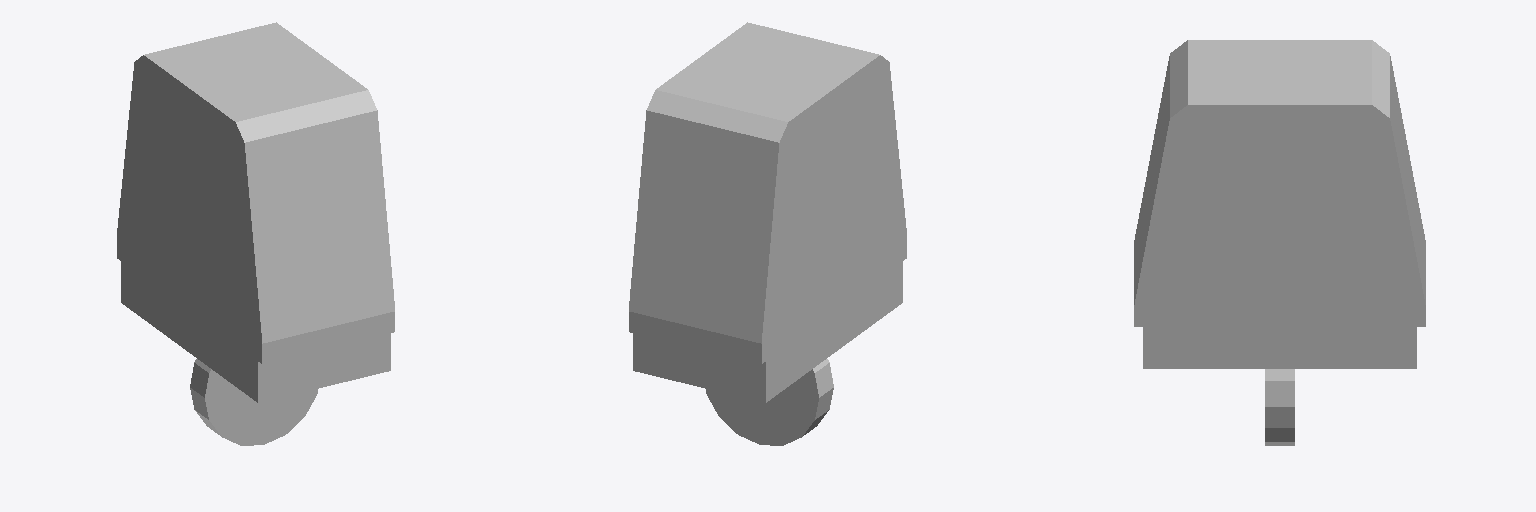
The model's file is Cuerpo.obj.
3 views of the same model, side by side, from view 1: azimuth 30°, elevation 25°; view 2: azimuth 150°, elevation 25°; view 3: azimuth 270°, elevation 25° (orthographic).
Parts seen in each view (by area): view 1: pasted__pasted__body1; view 2: pasted__pasted__body1; view 3: pasted__pasted__body1.
Part boxes in pixels (bbox=[...]): pasted__pasted__body1: bbox=[117, 22, 394, 445]; pasted__pasted__body1: bbox=[629, 22, 906, 445]; pasted__pasted__body1: bbox=[1134, 40, 1425, 445].
Size of the model in its own units: 0.7995 by 2.11 by 1.52.